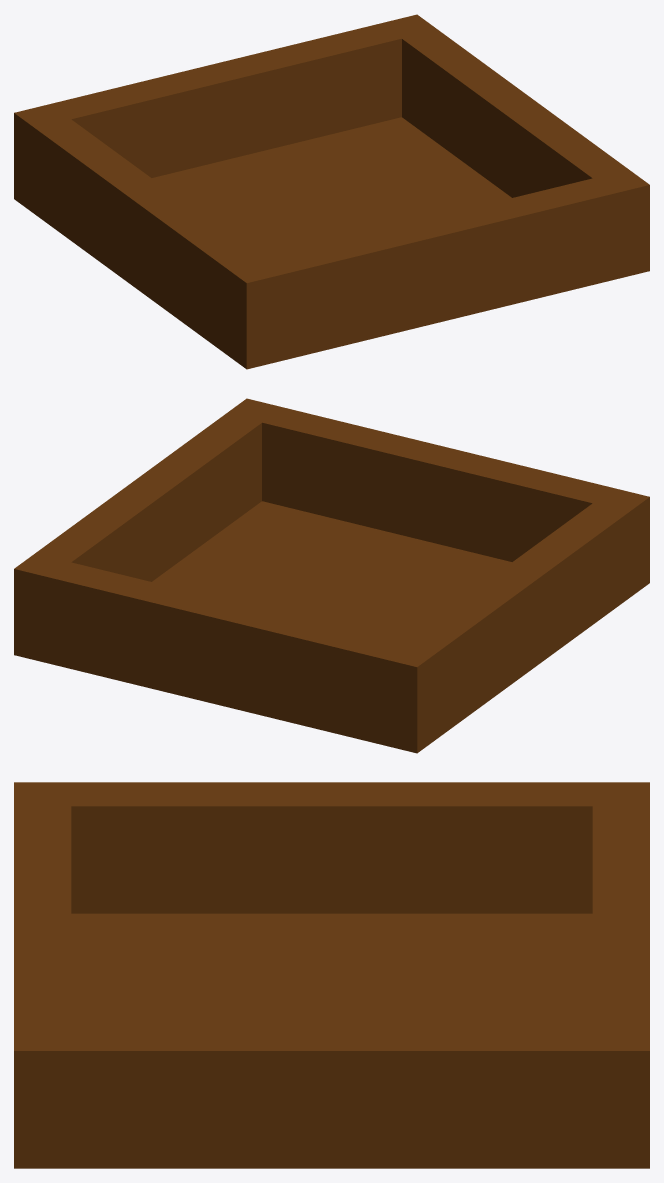
File: pinballFrame.fbx
The picture shows the model from 3 angles, top to bottom: view 1: azimuth 30°, elevation 25°; view 2: azimuth 150°, elevation 25°; view 3: azimuth 270°, elevation 25°; orthographic projection. The views are drawn at different scales.
Parts seen in each view (by area): view 1: pinballFrame; view 2: pinballFrame; view 3: pinballFrame.
Boxes of the visible parts, <box> form: pinballFrame: <box>14,14,649,369</box>; pinballFrame: <box>14,398,649,753</box>; pinballFrame: <box>14,782,649,1168</box>.
Bounding box in the file's own units: 100 × 20.44 × 100.
